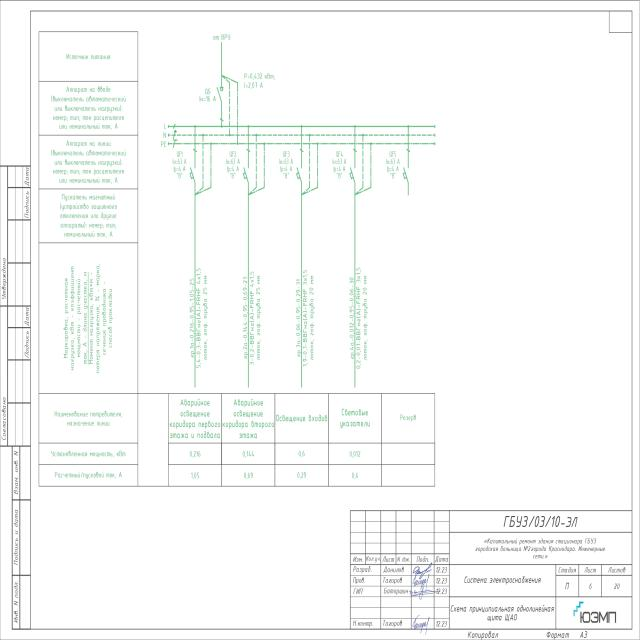-: (279, 157, 294, 179), (385, 158, 400, 180), (332, 158, 346, 180), (226, 158, 240, 180), (172, 158, 186, 179), (198, 96, 216, 102)
QF: (295, 148, 305, 184), (242, 148, 252, 182), (189, 147, 198, 184), (349, 148, 358, 183), (216, 84, 224, 123), (403, 148, 411, 183)
